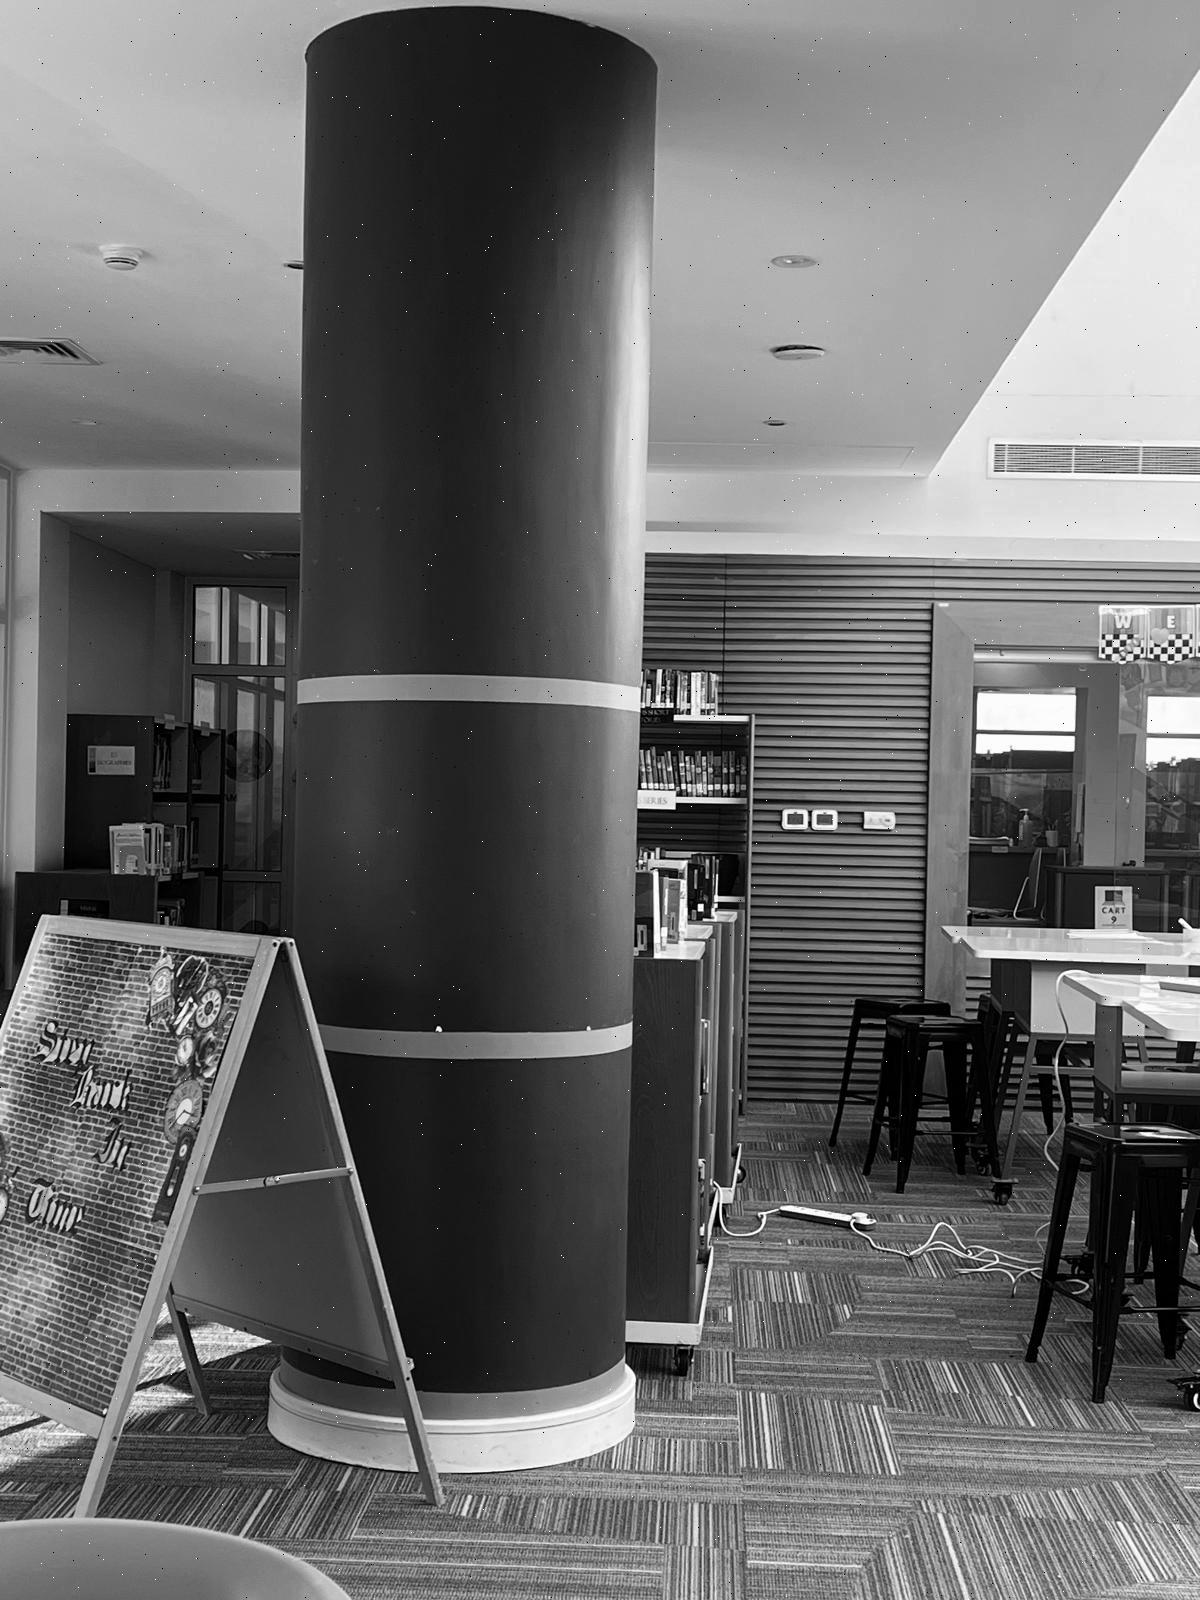Chair: (1026, 1123, 1199, 1401), (863, 1009, 998, 1192), (829, 997, 949, 1146)
Pillar: (295, 8, 655, 1469)
Table: (943, 923, 1199, 1197)
Wall: (644, 553, 1199, 1099), (645, 81, 1199, 563)
